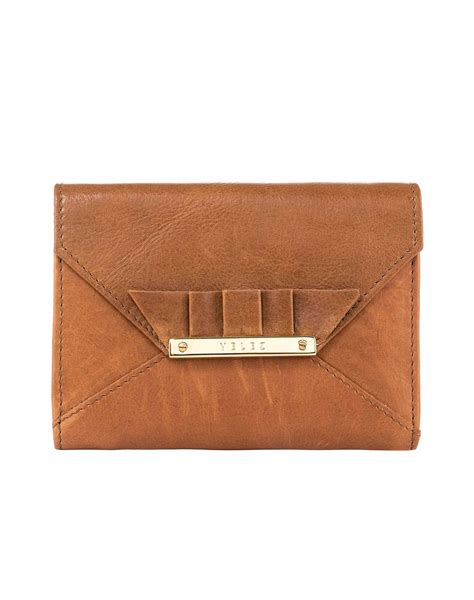cuero: (49, 179, 427, 453)
